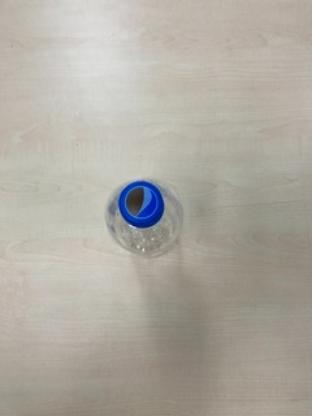Plastic Bottle: (100, 169, 188, 271)
